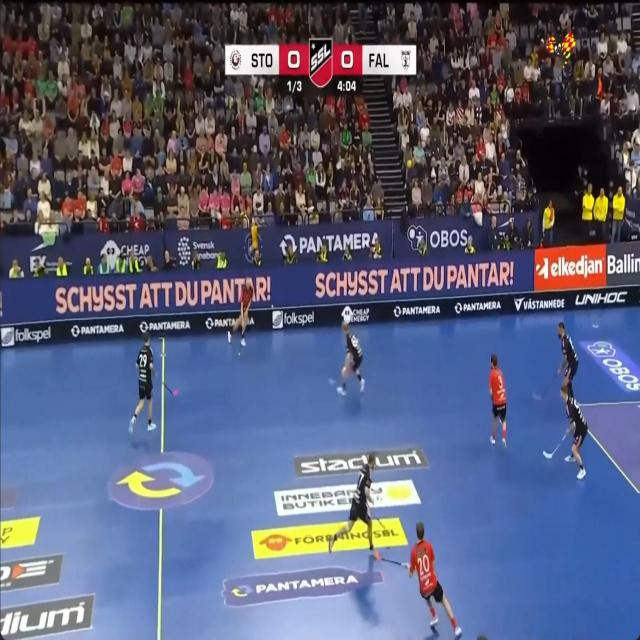Balls: (237, 350, 240, 355)
player: (404, 522, 461, 637), (328, 453, 379, 558), (128, 333, 155, 432), (561, 385, 587, 479), (337, 321, 364, 395), (228, 277, 253, 346), (489, 354, 506, 446), (557, 322, 578, 396)
stick: (534, 374, 557, 400), (543, 434, 566, 458), (379, 556, 404, 566), (162, 382, 178, 395), (241, 308, 247, 336), (375, 515, 385, 529), (328, 377, 336, 385)
